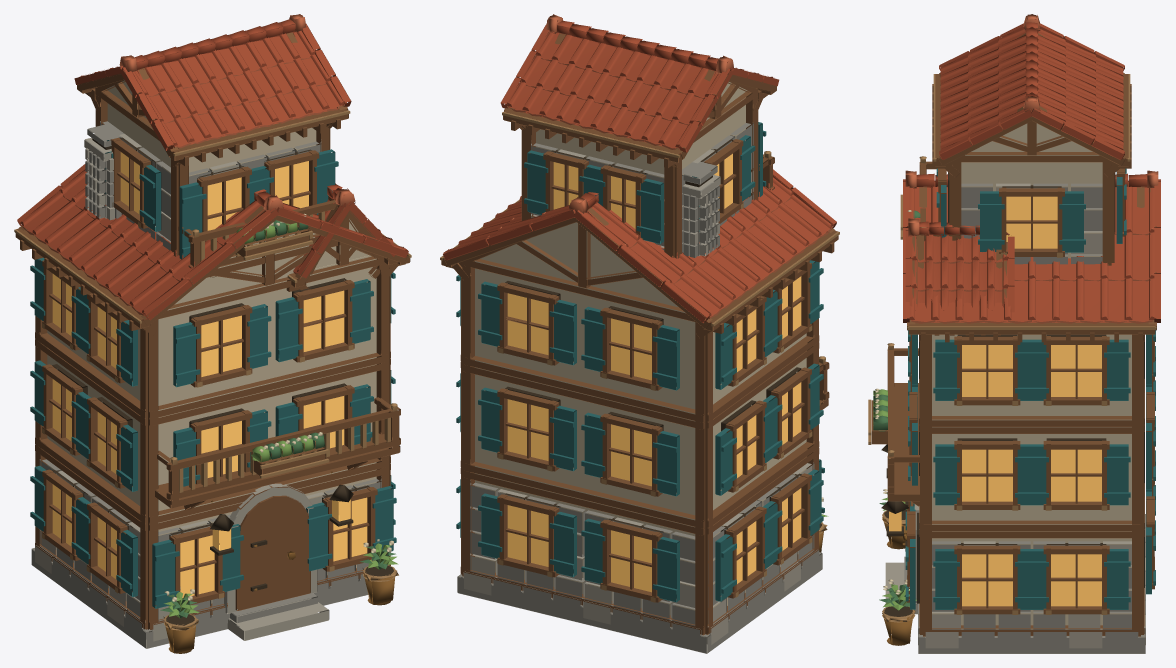
3 renders of one model, left to right at view 1: azimuth 30°, elevation 25°; view 2: azimuth 150°, elevation 25°; view 3: azimuth 270°, elevation 25°, orthographic.
Parts seen in each view (by area): view 1: alpine_villa_3_geometry; view 2: alpine_villa_3_geometry; view 3: alpine_villa_3_geometry.
Part boxes in pixels (left/top/right/bottom): alpine_villa_3_geometry: left=14, top=14, right=411, bottom=653; alpine_villa_3_geometry: left=440, top=14, right=839, bottom=653; alpine_villa_3_geometry: left=868, top=14, right=1160, bottom=653.
Size of the model in its own units: 0.9348 by 1.76 by 0.8713.
